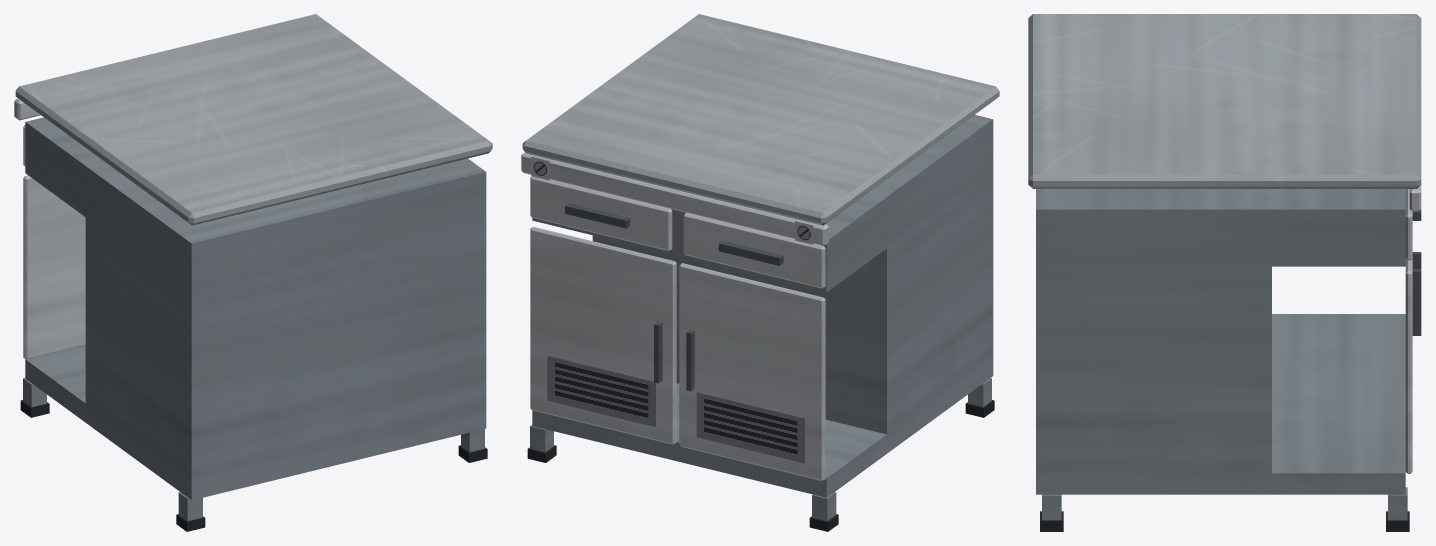
File: counter_1m.glb
3 renders of one model, left to right at view 1: azimuth 30°, elevation 25°; view 2: azimuth 150°, elevation 25°; view 3: azimuth 270°, elevation 25°, orthographic. The views are drawn at different scales.
Parts seen in each view (by area): view 1: counter_1m_body; view 2: counter_1m_body; view 3: counter_1m_body.
Part boxes in pixels (left/top/right/bottom): counter_1m_body: left=14, top=14, right=492, bottom=531; counter_1m_body: left=521, top=14, right=999, bottom=531; counter_1m_body: left=1028, top=14, right=1421, bottom=531.
Bounding box in the file's own units: 0.992 × 1 × 1.
6 materials, 5 textured.
